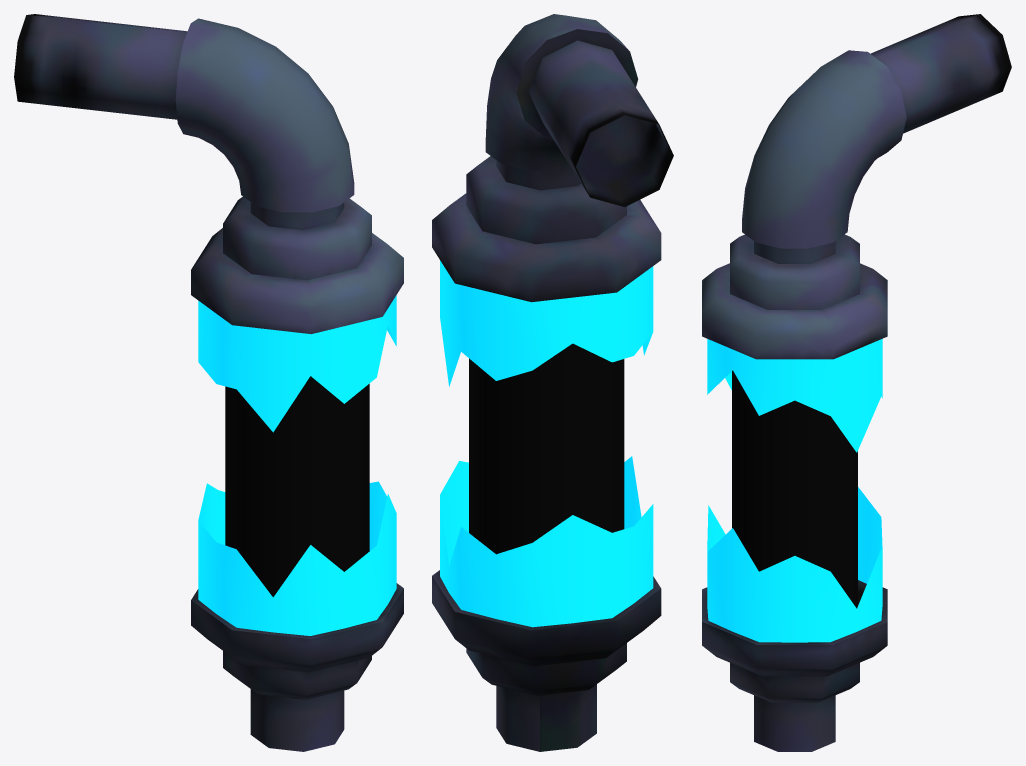
Rendered from finalBoss-reactors4Broken.glb.
3 views of the same model, side by side, from view 1: azimuth 30°, elevation 25°; view 2: azimuth 150°, elevation 25°; view 3: azimuth 270°, elevation 25° (orthographic). The views are drawn at different scales.
Visible parts, largest first — view 1: finalBoss-reactorsBroken4; view 2: finalBoss-reactorsBroken4; view 3: finalBoss-reactorsBroken4.
Part boxes in pixels (<box>): finalBoss-reactorsBroken4: <box>14,14,403,751</box>; finalBoss-reactorsBroken4: <box>432,14,673,751</box>; finalBoss-reactorsBroken4: <box>702,14,1011,751</box>.
Bounding box in the file's own units: 0.6994 × 1.62 × 0.6994.
2 materials, 1 textured.
